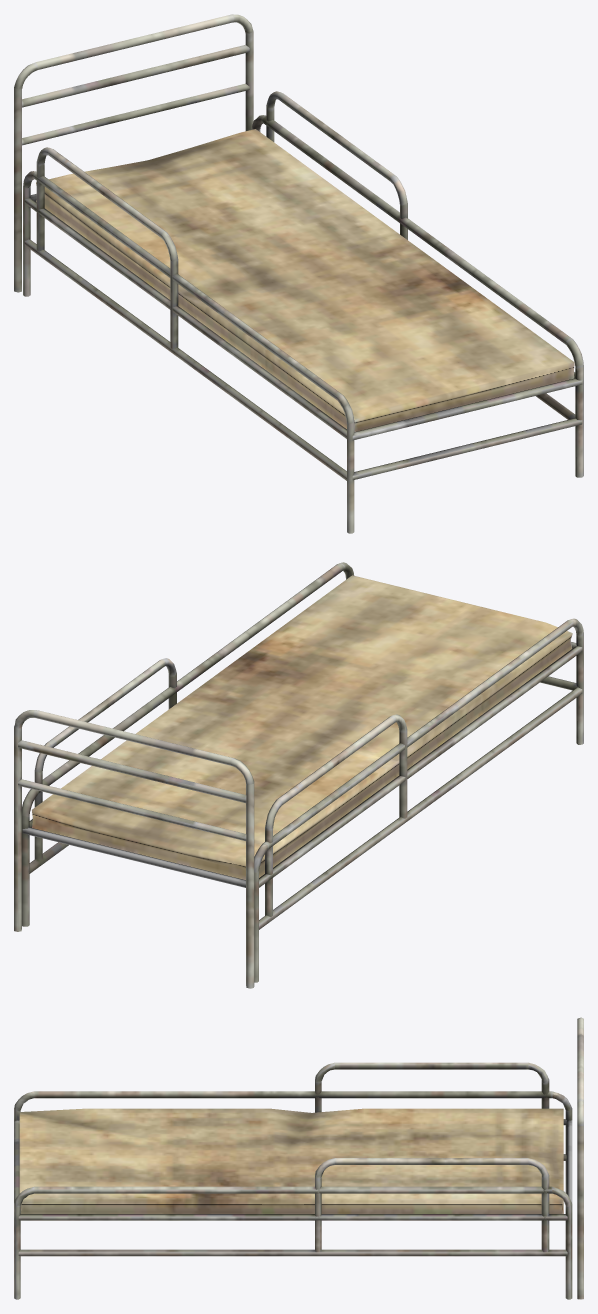
Rendered from hospital_bed.glb.
The picture shows the model from 3 angles, top to bottom: view 1: azimuth 30°, elevation 25°; view 2: azimuth 150°, elevation 25°; view 3: azimuth 270°, elevation 25°; orthographic projection. The views are drawn at different scales.
Visible parts, largest first — view 1: Object_2; view 2: Object_2; view 3: Object_2.
Boxes of the visible parts, x1,y1,x2,y2 form: Object_2: (14,14,583,533); Object_2: (14,562,583,988); Object_2: (14,1017,583,1299).
Bounding box in the file's own units: 2.4 × 2.15 × 5.82.
1 material, 1 textured.
